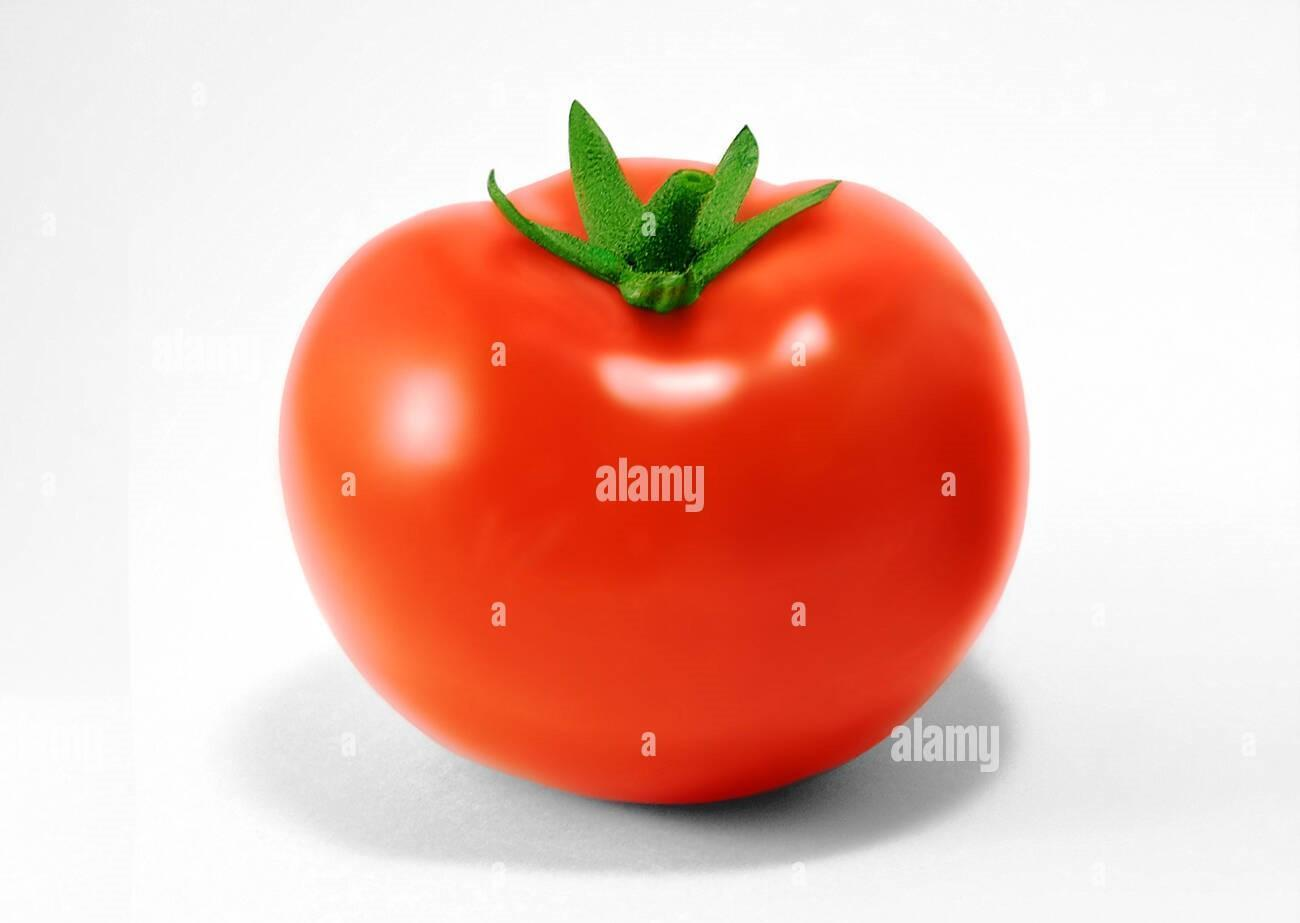healthy-tomato: (276, 108, 1038, 812)
